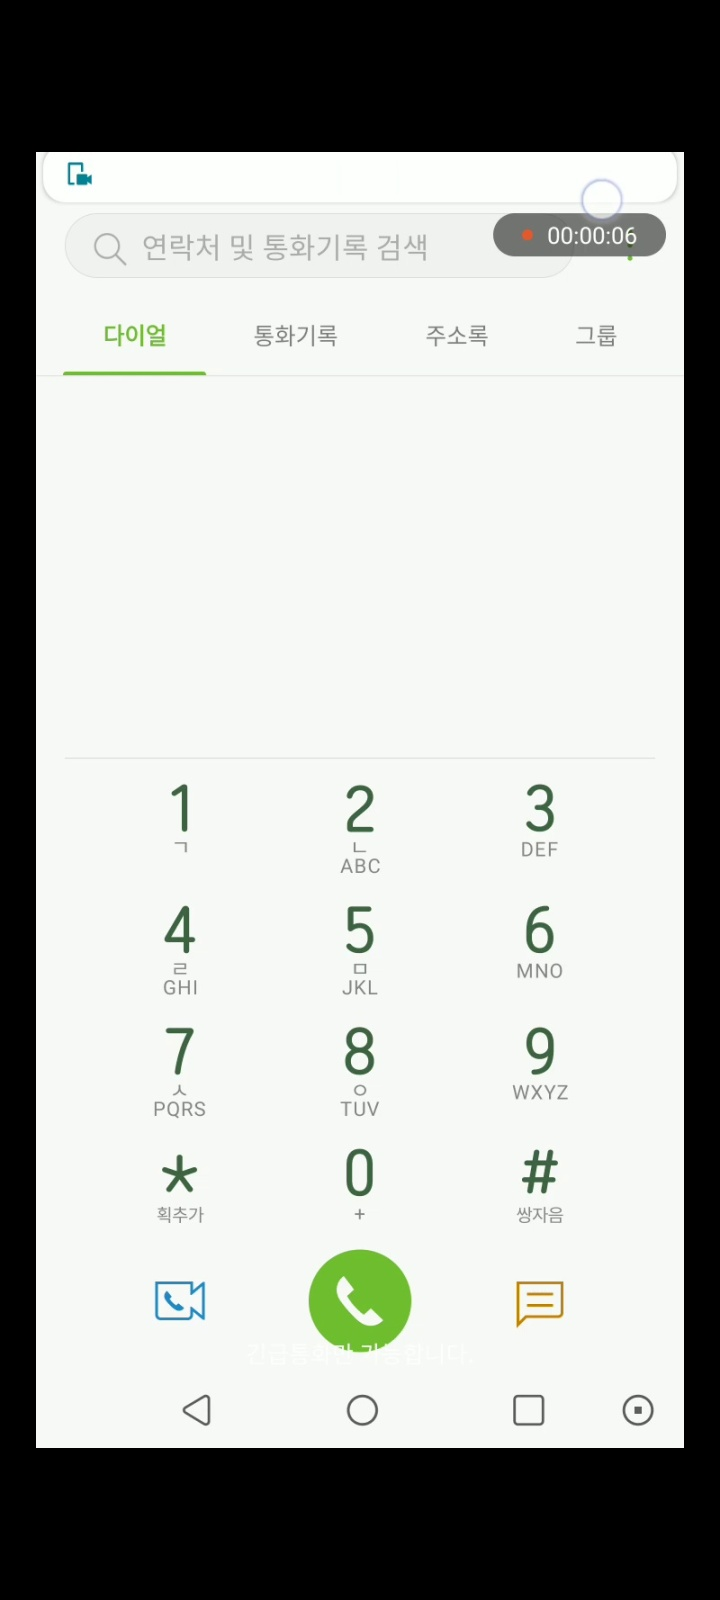Cursor: (580, 177, 625, 223)
